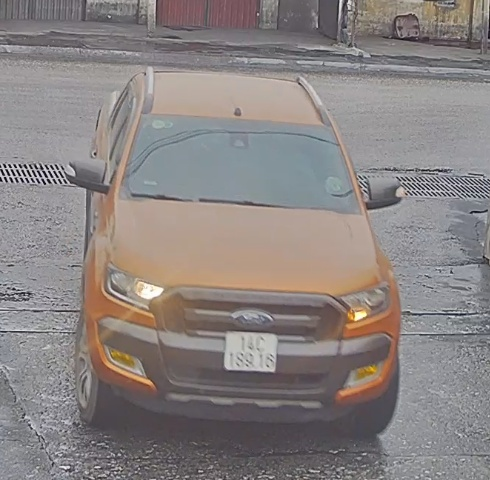vehicle plate: (221, 329, 280, 374)
